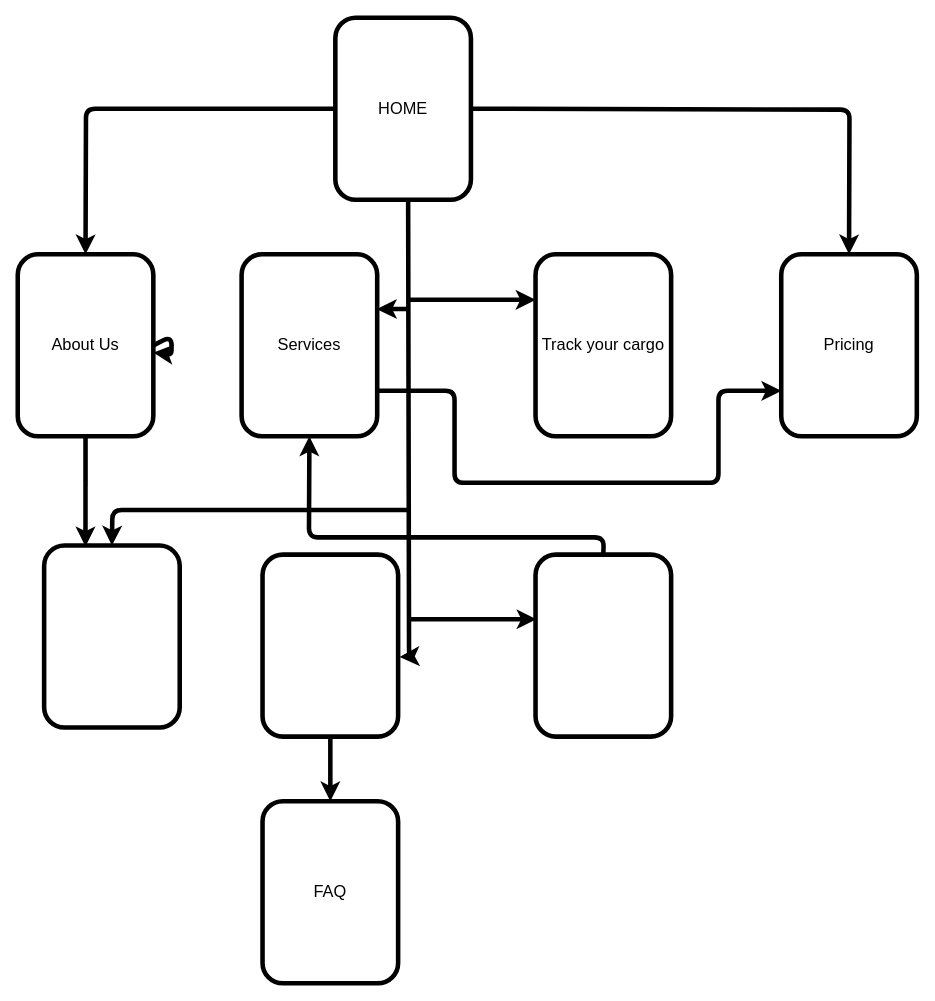
The diagram is 935 pixels wide and 1001 high, and some of its shapes have lost their labels. The centre of each missing label's shape, as x and y in pixels:
"Blog and News" goes at (x=330, y=645).
"Contact Us" goes at (x=111, y=636).
"Login and Setup" goes at (x=603, y=645).
